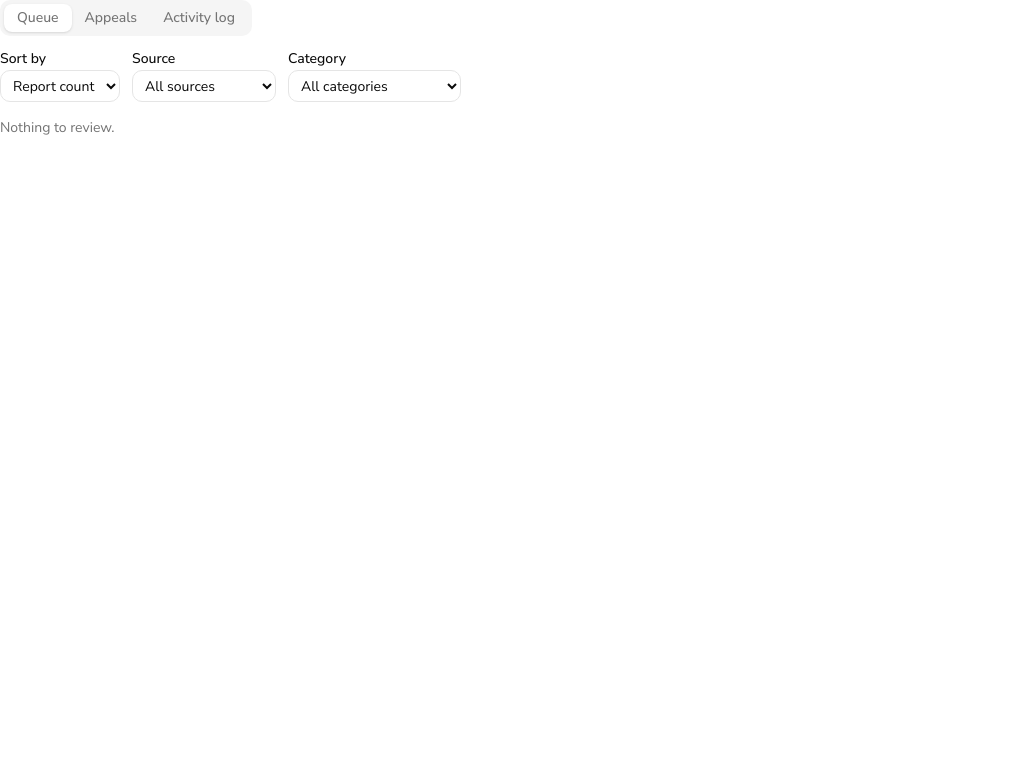
Test: ModerationDashboard › restores an unpublished video from the activity log (#571)
This screenshot has width=1024, height=768.
Expected: the text "Nothing to review." is shown, [0,118,114,137]
Click the tab "Activity log".
click(199, 18)  # box [150,4,248,32]
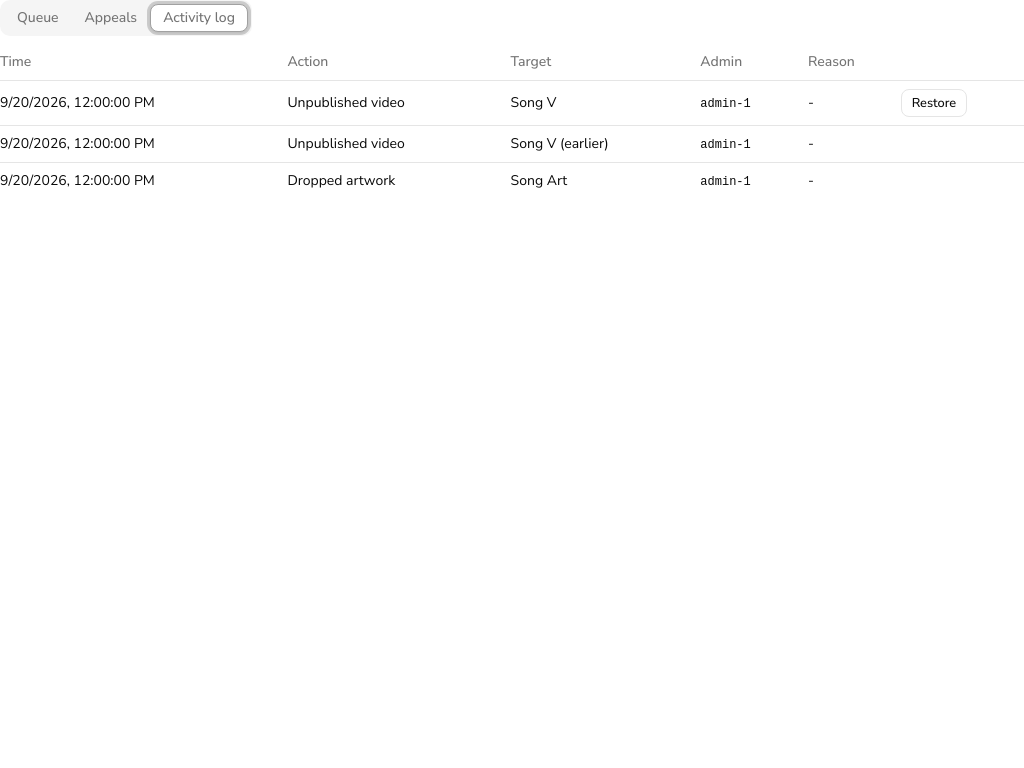
Click the button "Restore".
click(934, 103)  # box [901,89,967,117]
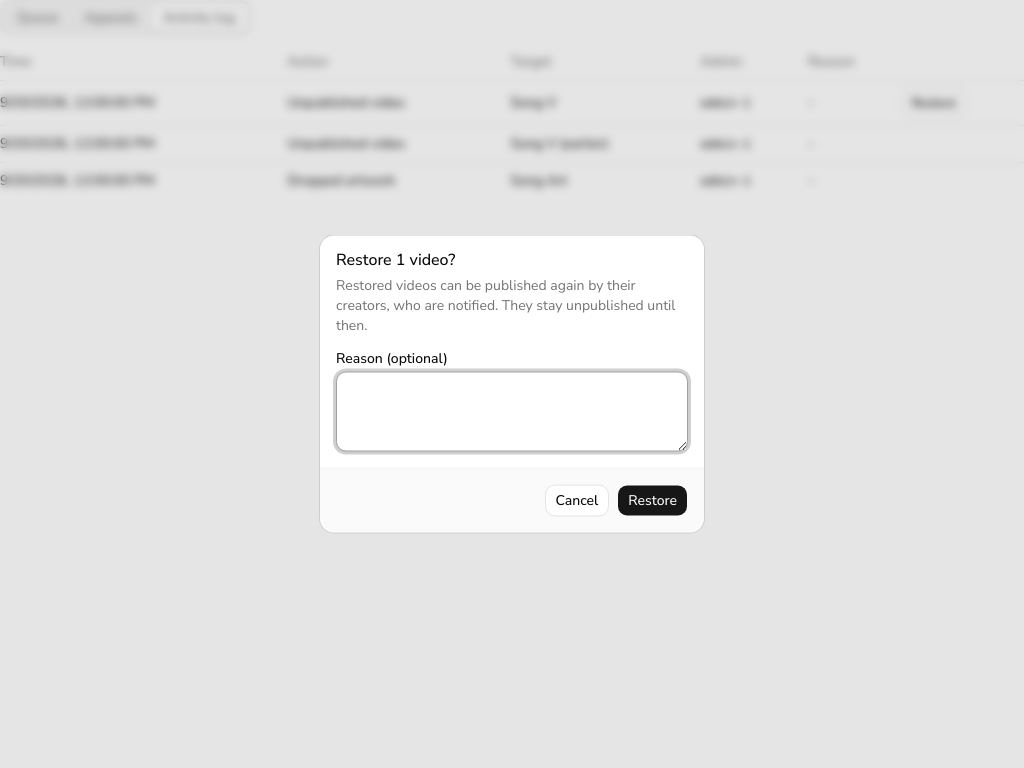
Expected: the dialog shows "Restore 1 video?", [320,236,704,532]
Type "mistake" into the text box labelled "Reason (optional)".
click(512, 412); type("mistake")  # box [336,372,688,452]
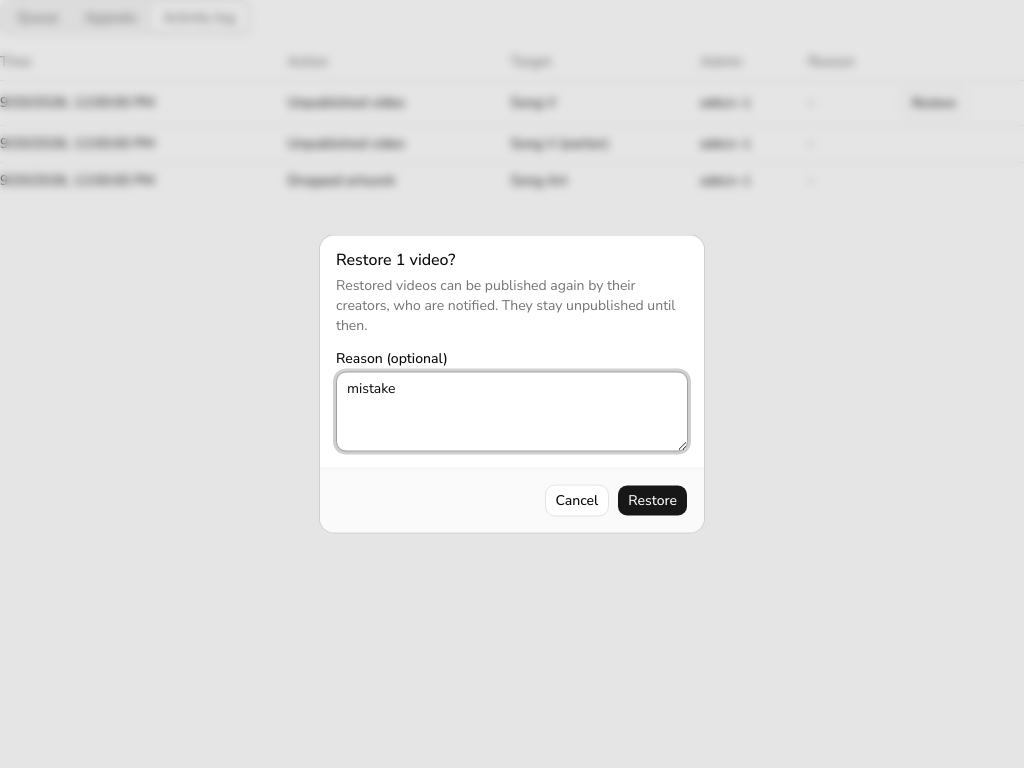
Click the button "Restore".
click(653, 500)  # box [617,484,688,516]
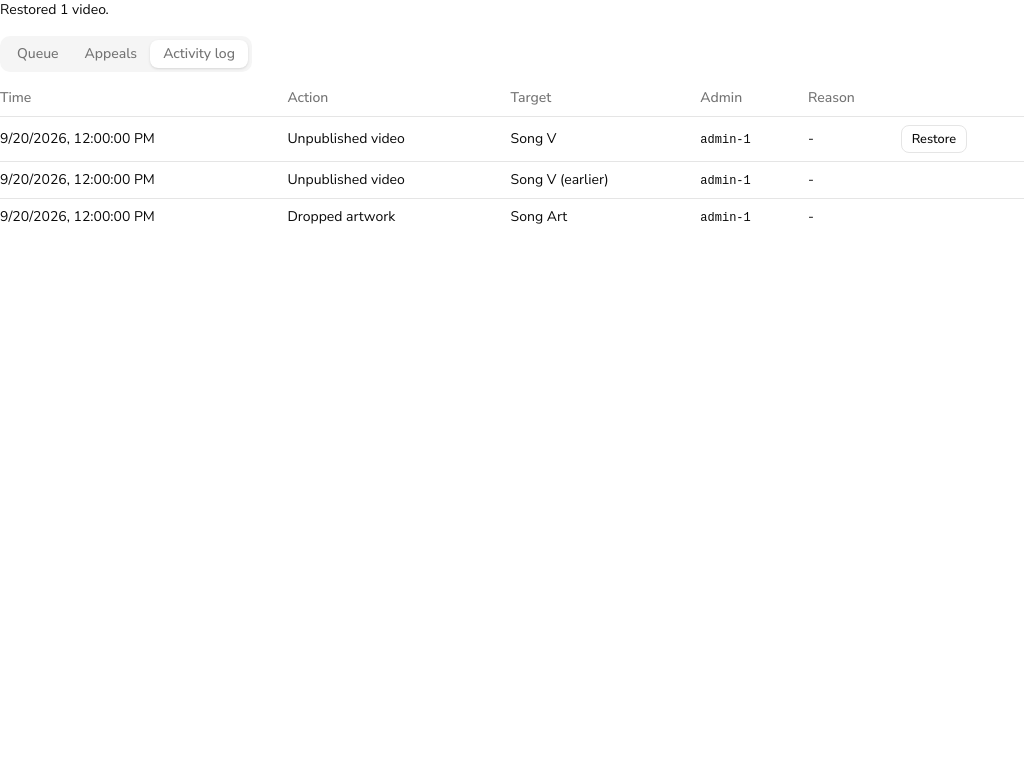
Expected: the message reads "Restored 1 video.", [0,0,109,19]
